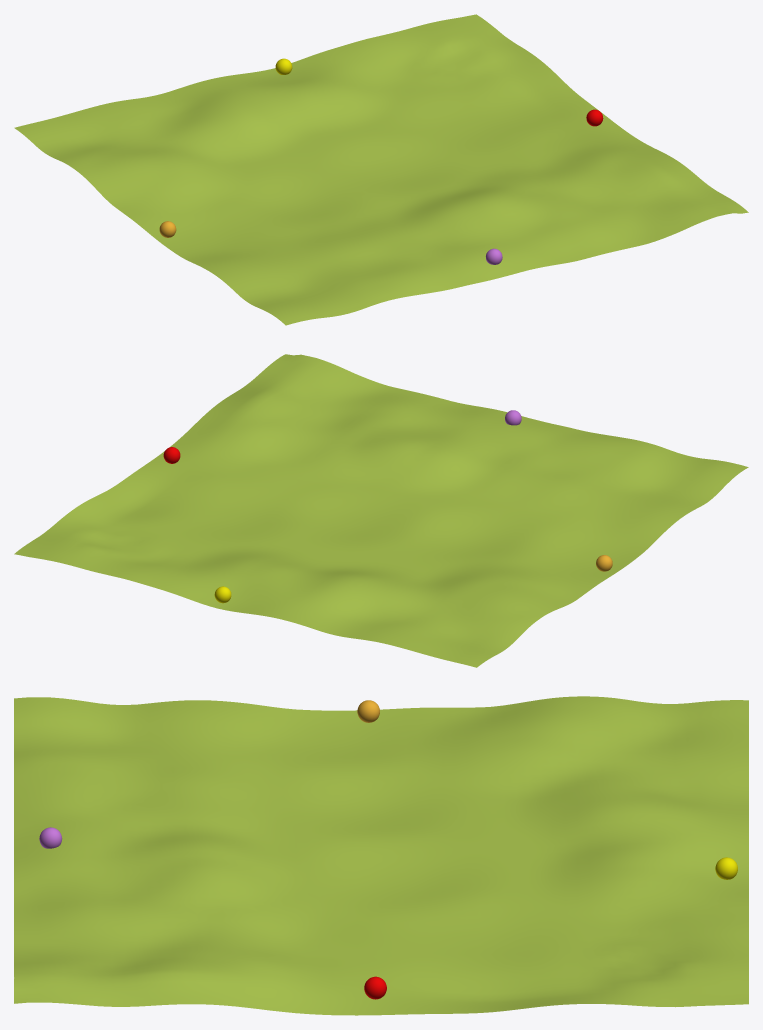
The model's file is marqueurs_carre9.fbx.
3 renders of one model, top to bottom at view 1: azimuth 30°, elevation 25°; view 2: azimuth 150°, elevation 25°; view 3: azimuth 270°, elevation 25°, orthographic. The views are drawn at different scales.
Visible parts, largest first — view 1: carre9; view 2: carre9; view 3: carre9.
Part boxes in pixels (x1,y1,x2,y2): carre9: (14,14,748,325); carre9: (14,354,748,667); carre9: (14,696,748,1015).
Size of the model in its own units: 709 by 35.36 by 720.
